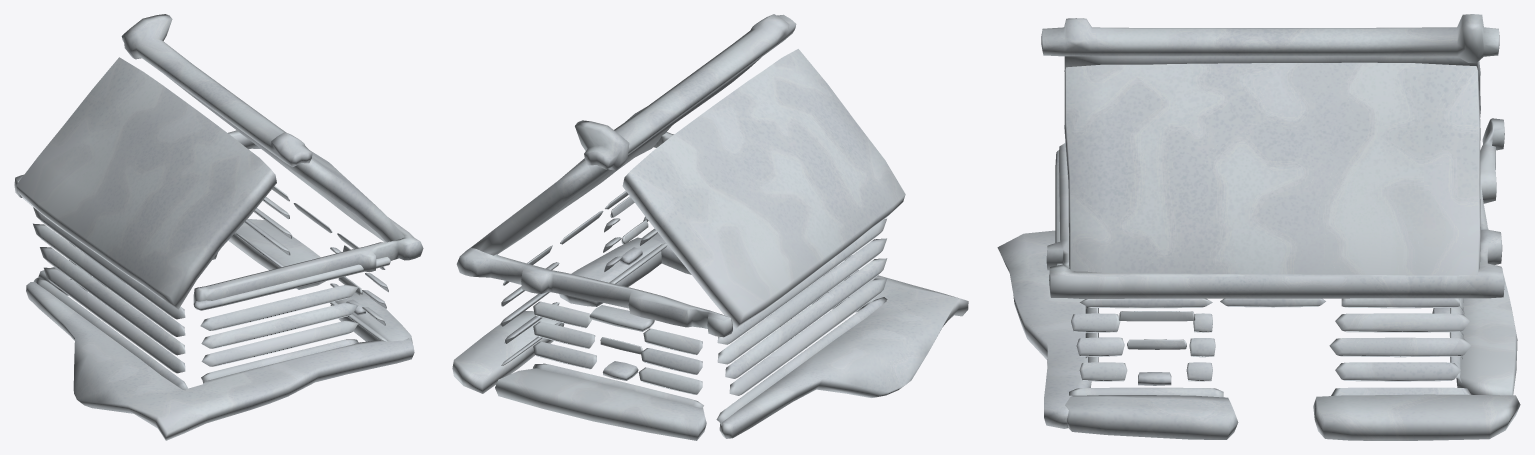
The model's file is House_Small_Snow.fbx.
The picture shows the model from 3 angles, left to right: view 1: azimuth 30°, elevation 25°; view 2: azimuth 150°, elevation 25°; view 3: azimuth 270°, elevation 25°; orthographic projection. The views are drawn at different scales.
Visible parts, largest first — view 1: House_Small_Snow_LOD0; view 2: House_Small_Snow_LOD0; view 3: House_Small_Snow_LOD0.
Boxes of the visible parts, x1=… form: House_Small_Snow_LOD0: x1=14, y1=14, x2=423, y2=440; House_Small_Snow_LOD0: x1=452, y1=14, x2=968, y2=440; House_Small_Snow_LOD0: x1=997, y1=14, x2=1520, y2=440.
Size of what is drawn, in the model's own units: 859 by 743 by 949.
